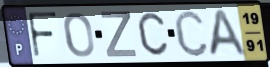A: (206, 7, 250, 59)
C: (172, 8, 211, 59), (136, 11, 170, 58)
F: (26, 11, 60, 61)
O: (62, 11, 96, 59)
Z: (99, 10, 139, 59)
